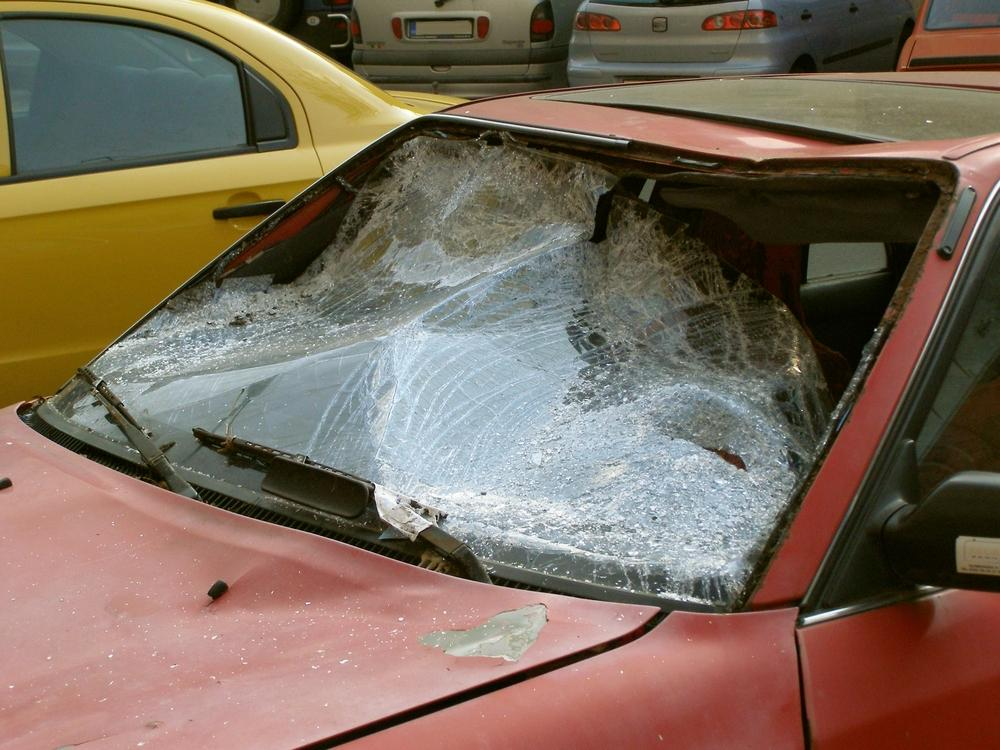dent: (12, 478, 617, 728), (735, 129, 862, 164)
glass shatter: (51, 125, 943, 608)
